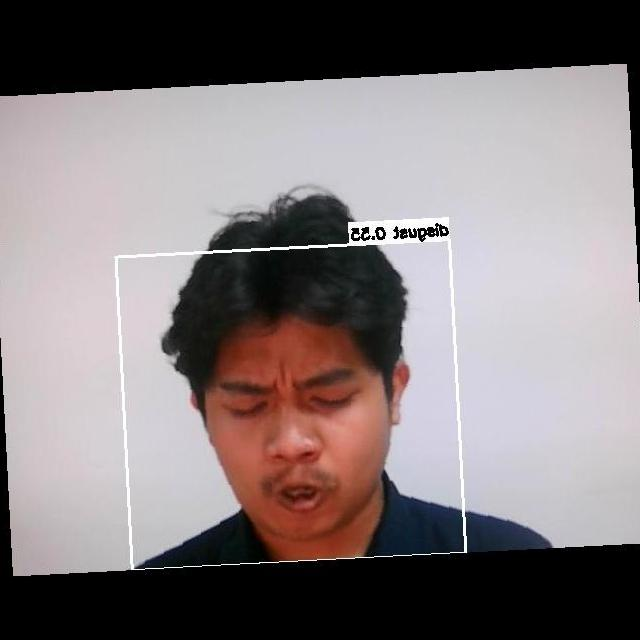Angry: (200, 348, 397, 518)
